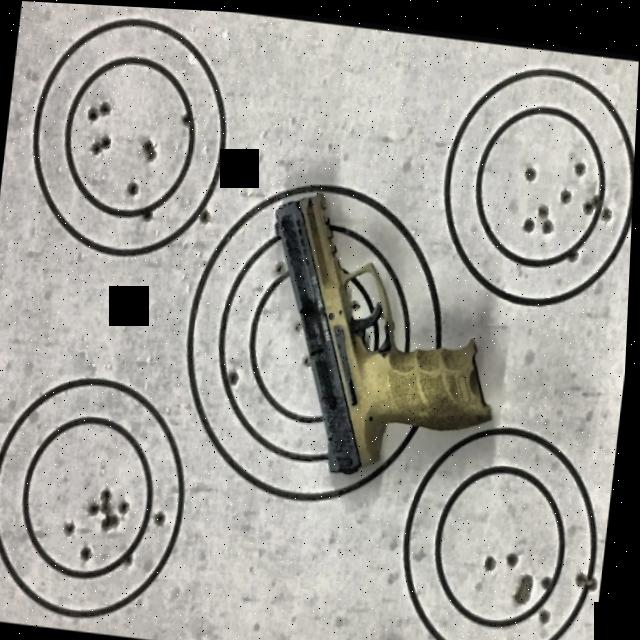HKVP9: (244, 181, 510, 478)
